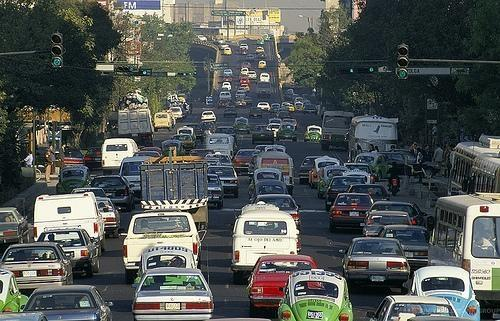bicycle: (36, 168, 42, 182)
bus: (427, 192, 499, 305), (447, 134, 500, 196), (322, 110, 352, 153)
car: (231, 209, 298, 286), (131, 268, 216, 321), (247, 254, 317, 314), (278, 268, 353, 321), (404, 264, 479, 316), (339, 238, 411, 290), (37, 226, 101, 280), (23, 285, 113, 321), (377, 224, 430, 266), (364, 295, 458, 317), (329, 192, 374, 232), (304, 126, 322, 144)
motorcycle: (390, 179, 398, 193)
truck: (122, 212, 204, 284), (137, 147, 208, 229), (34, 192, 107, 250), (345, 114, 398, 162), (118, 110, 155, 146)
